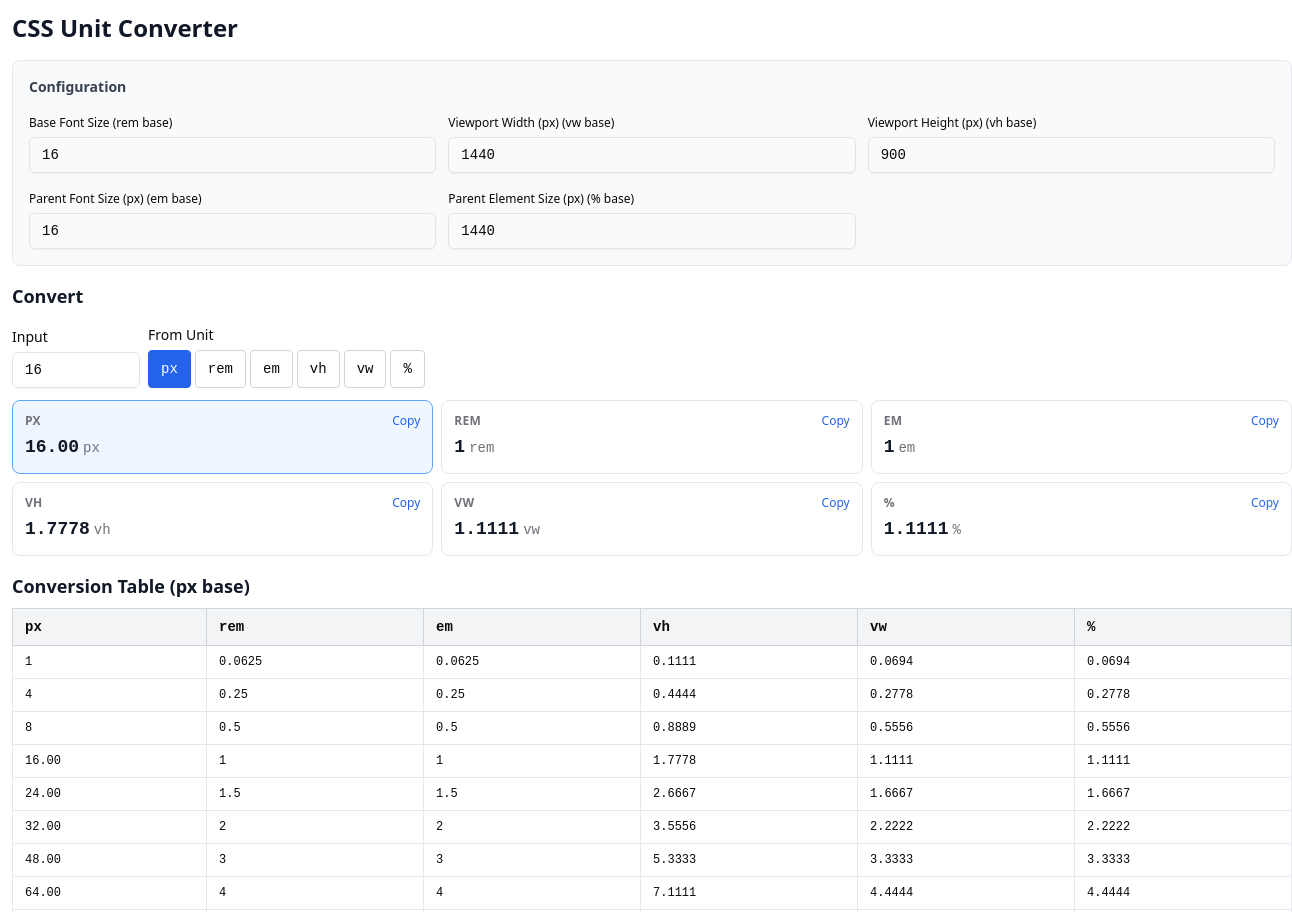
Test: CssUnitConverter › Unit switching › should convert 1rem to 16px with default config
Click the button with test id "unit-btn-rem". click: (220, 369)
box: x1=195 y1=350 x2=246 y2=388
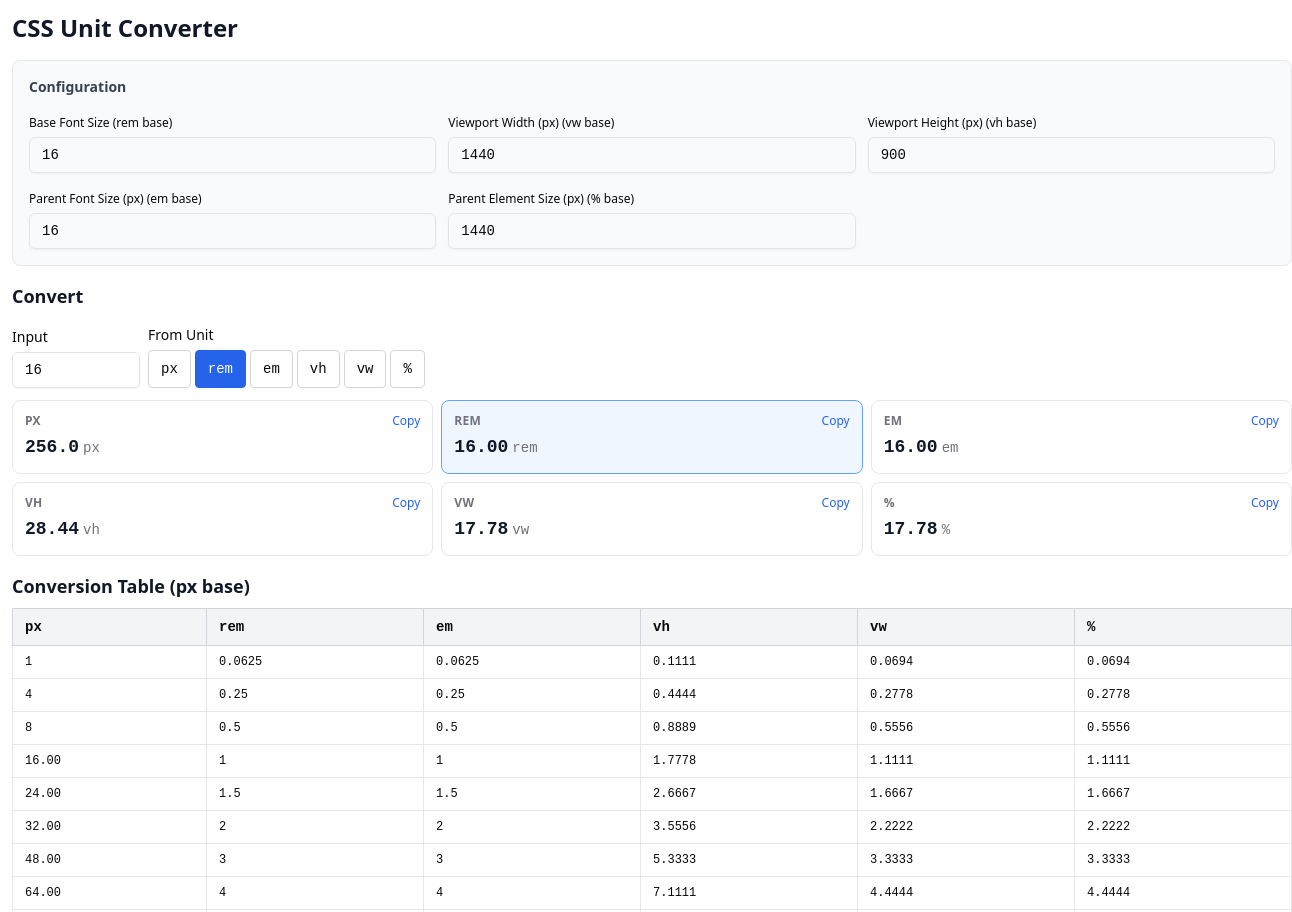
Replace the text in the number field with test id "value-input" with "1". click: (76, 370)
box: x1=12 y1=352 x2=140 y2=388
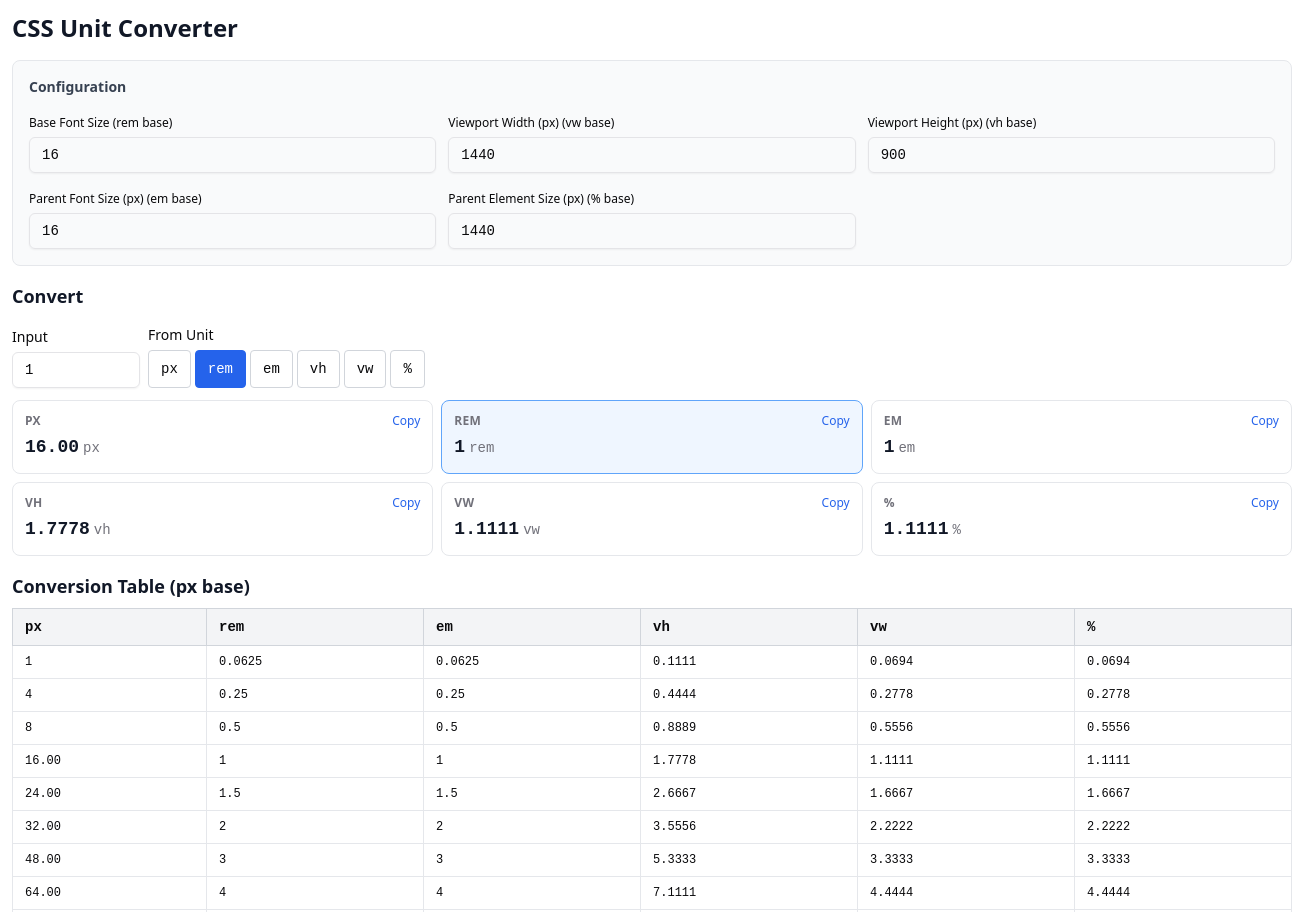
Now the element with test id "result-px" shows "16", box x1=25 y1=437 x2=79 y2=457
